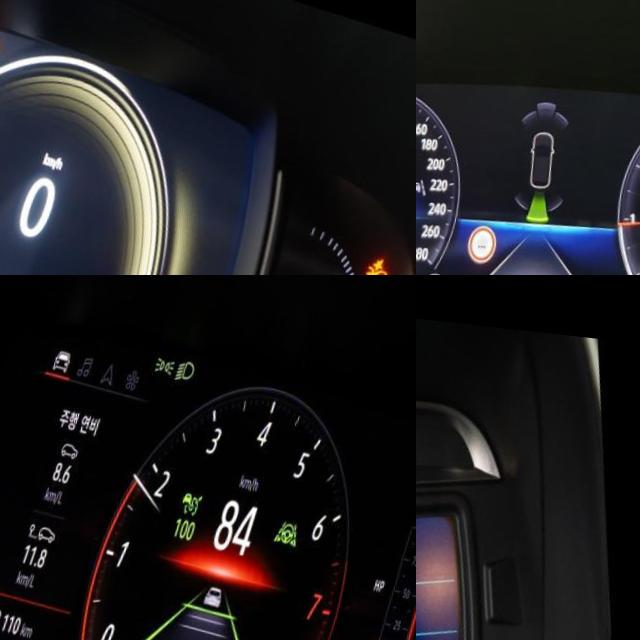LaneCenteringOff: (282, 510, 312, 540)
Low beam: (179, 353, 201, 380)
SideLamp: (158, 348, 181, 371)
